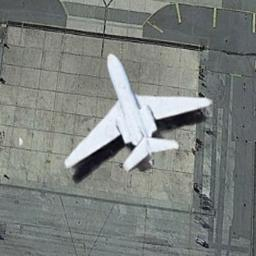Airplane: (59, 44, 216, 180)
